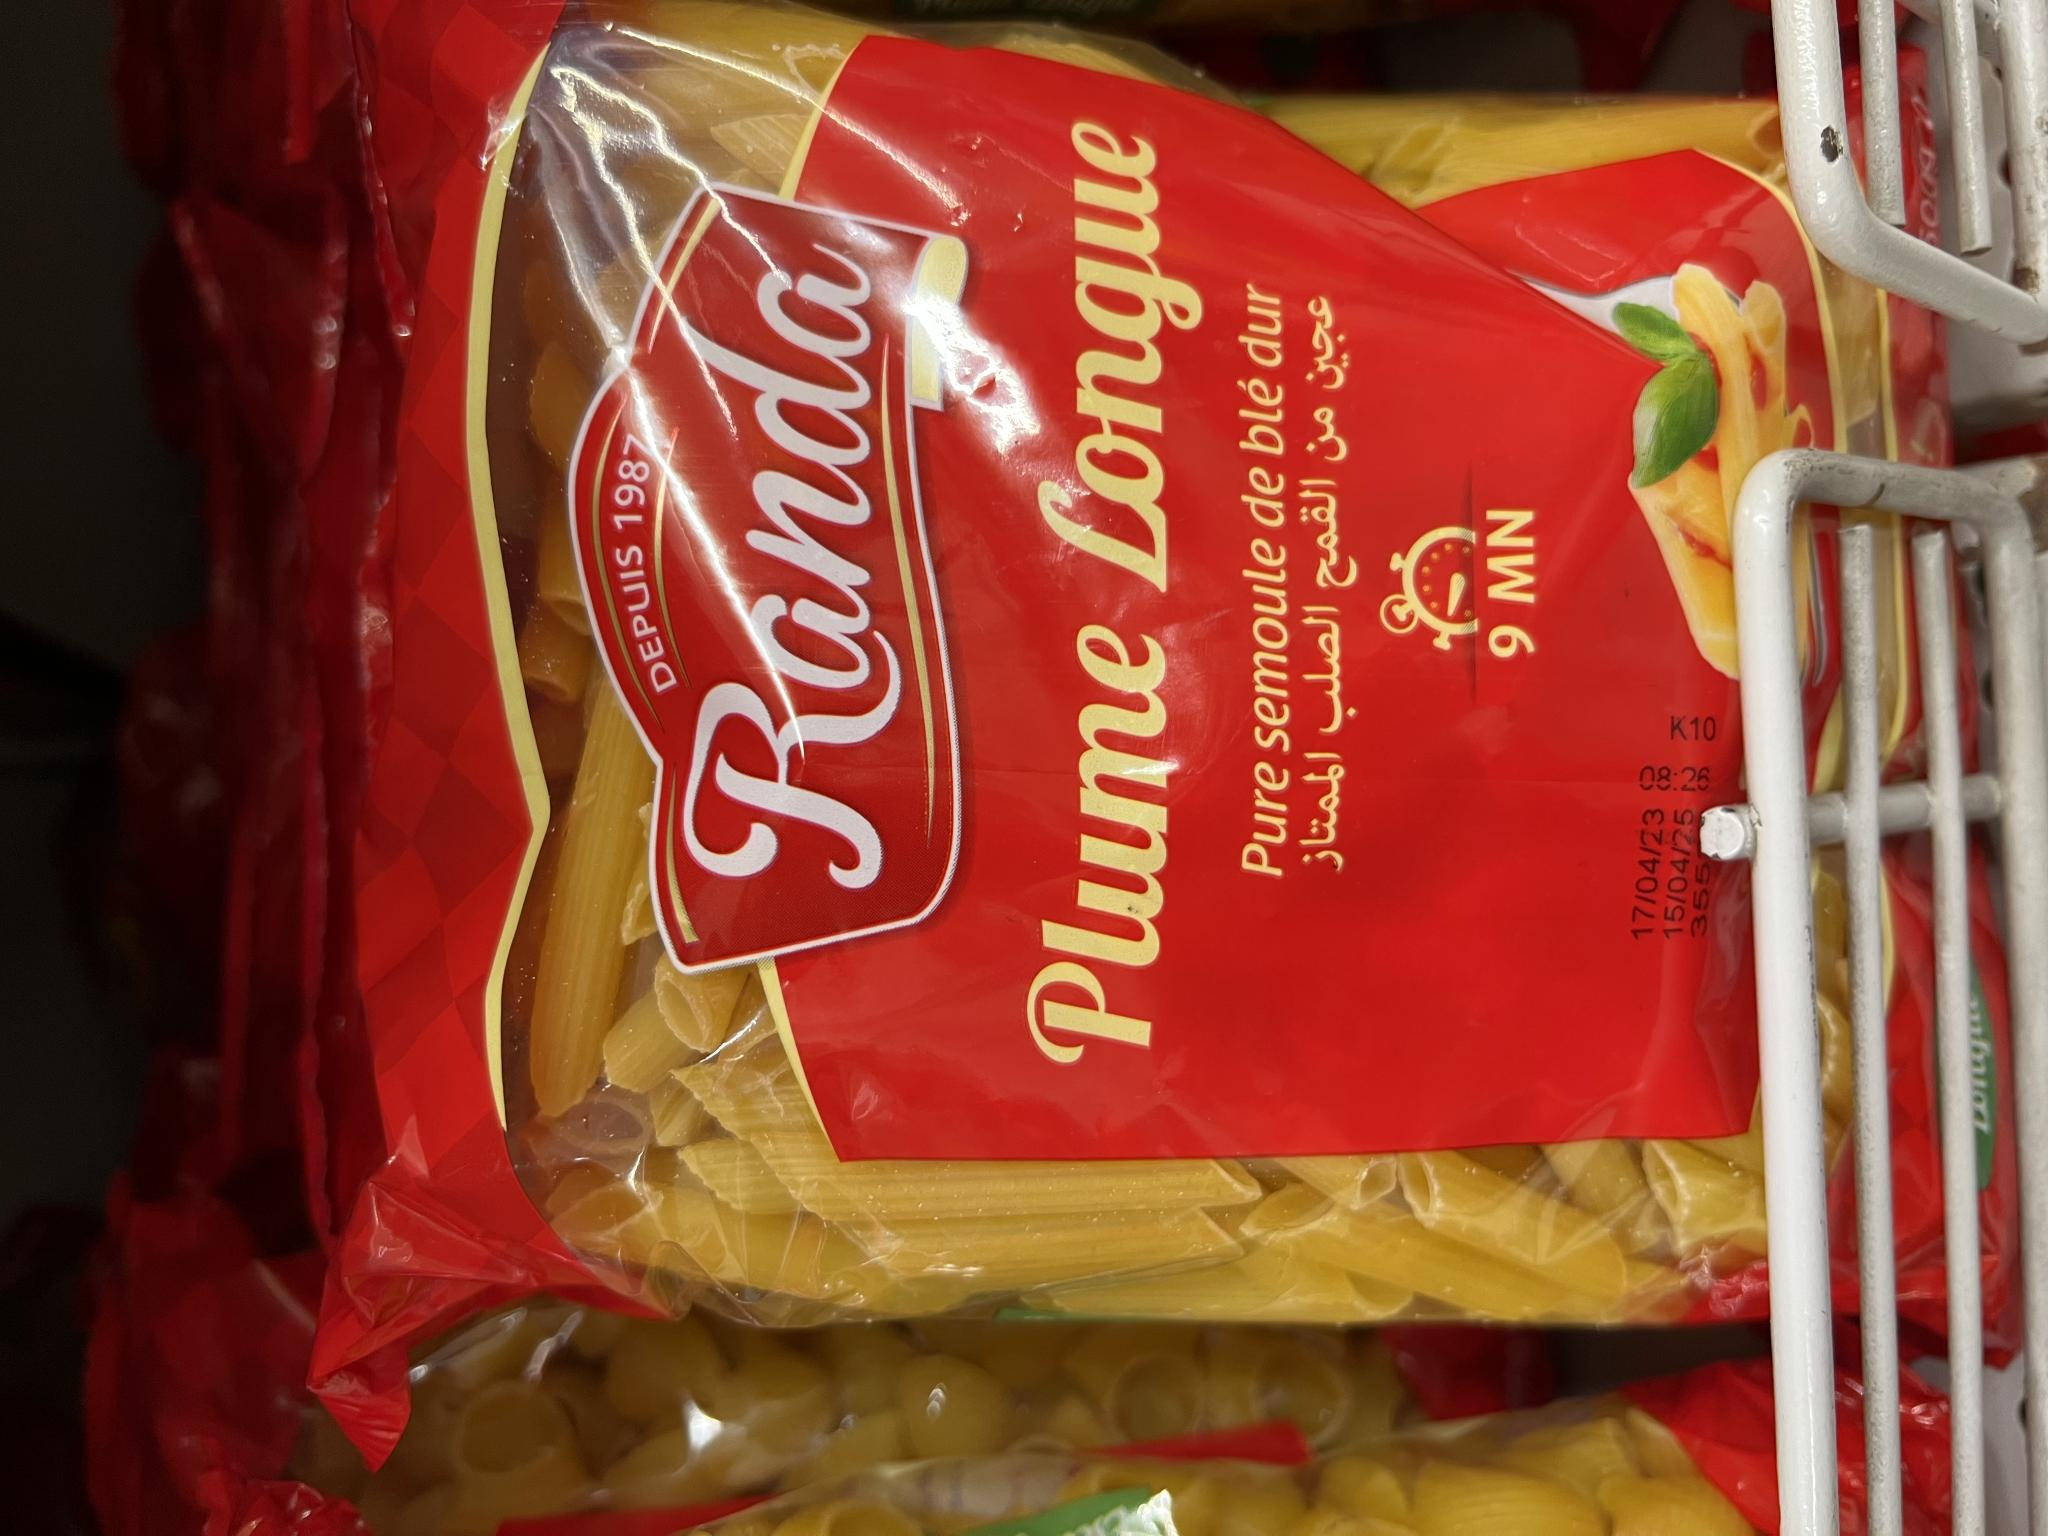plume: (255, 26, 2037, 1329)
